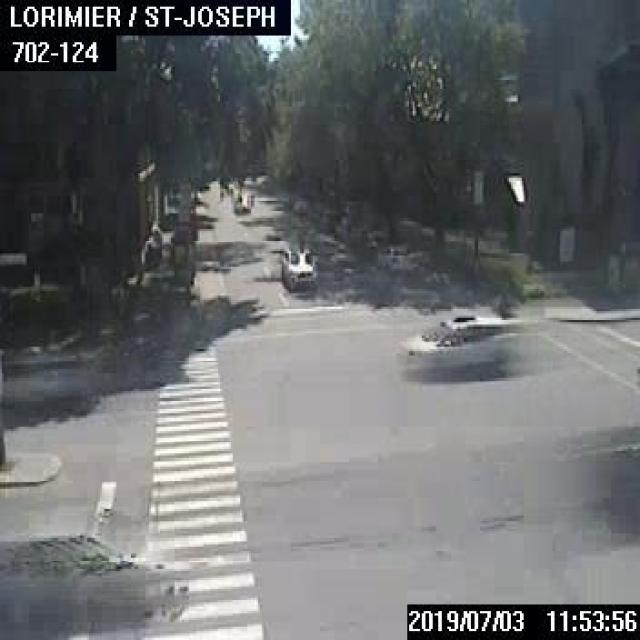vehicle: (0, 531, 185, 629), (402, 314, 524, 376), (279, 245, 317, 289), (376, 243, 407, 266), (233, 192, 249, 214), (291, 198, 305, 211)
